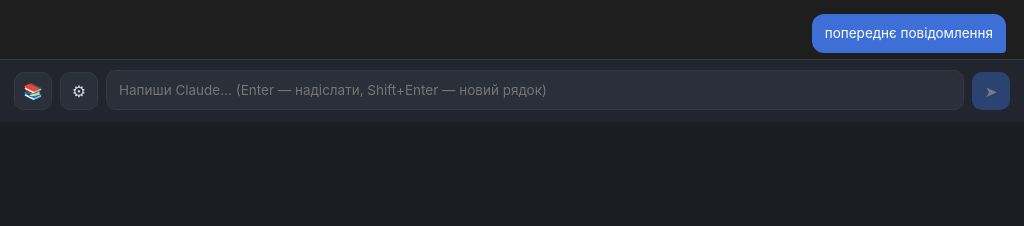
Test: ChatView › slash commands › arrows navigate the menu instead of recalling history
The image size is (1024, 226).
Type "/c" into the text box with placeholder "Напиши Claude".
click(535, 90); type("/c")  # box x1=106 y1=70 x2=964 y2=110
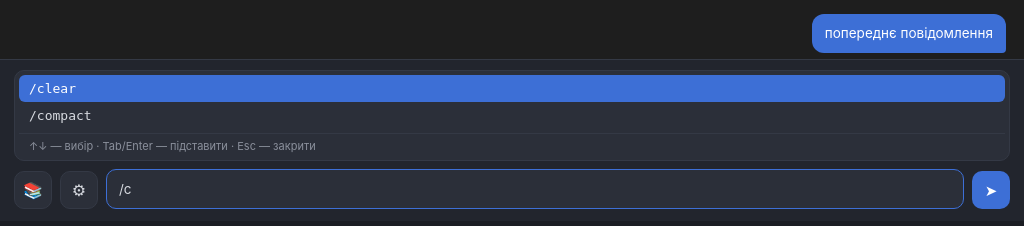
Press Arrowdown
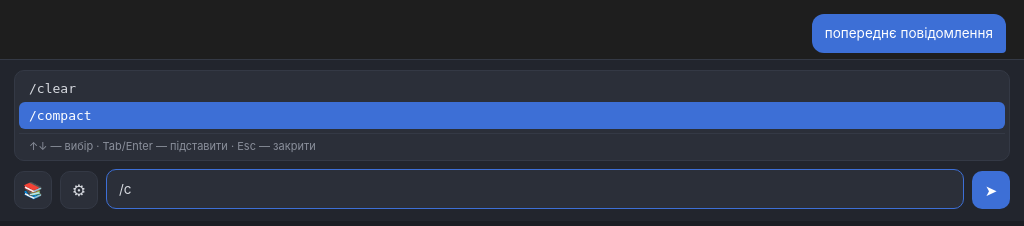
Press Tab
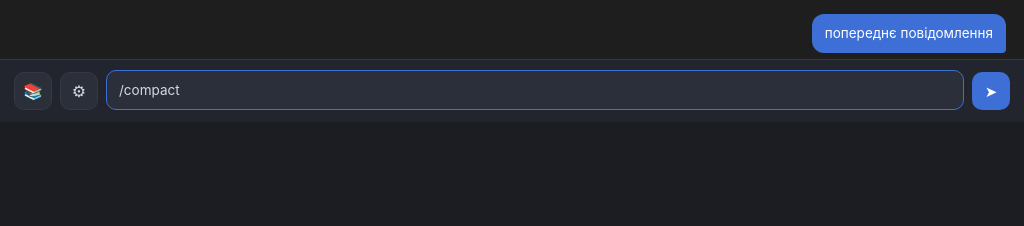
Result: the text box with placeholder "Напиши Claude" holds "/compact " at x1=106 y1=70 x2=964 y2=110
